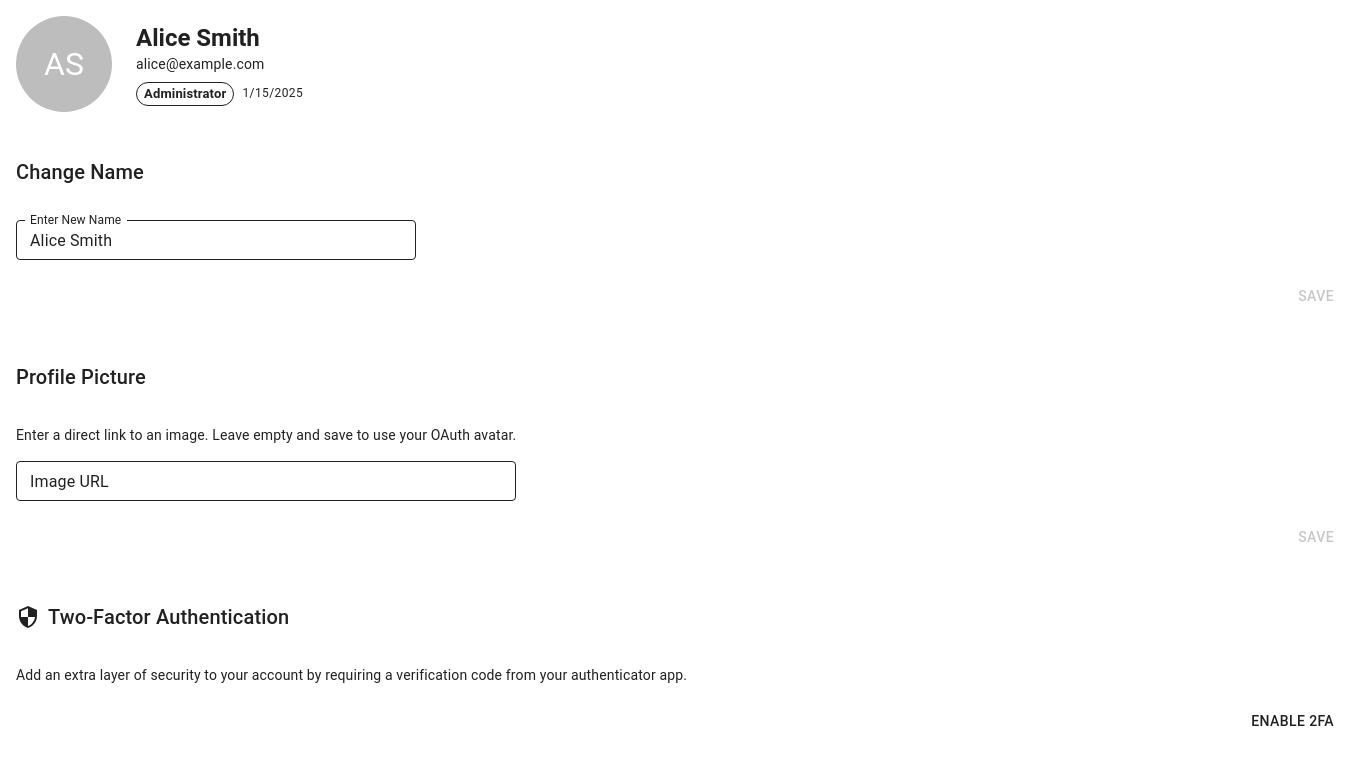
Test: ProfileEditor › save button enables when name is changed
Replace the text in the field labelled "Enter New Name" with "Alice Johnson" at {"x": 216, "y": 240}, box 16,220 -> 416,260
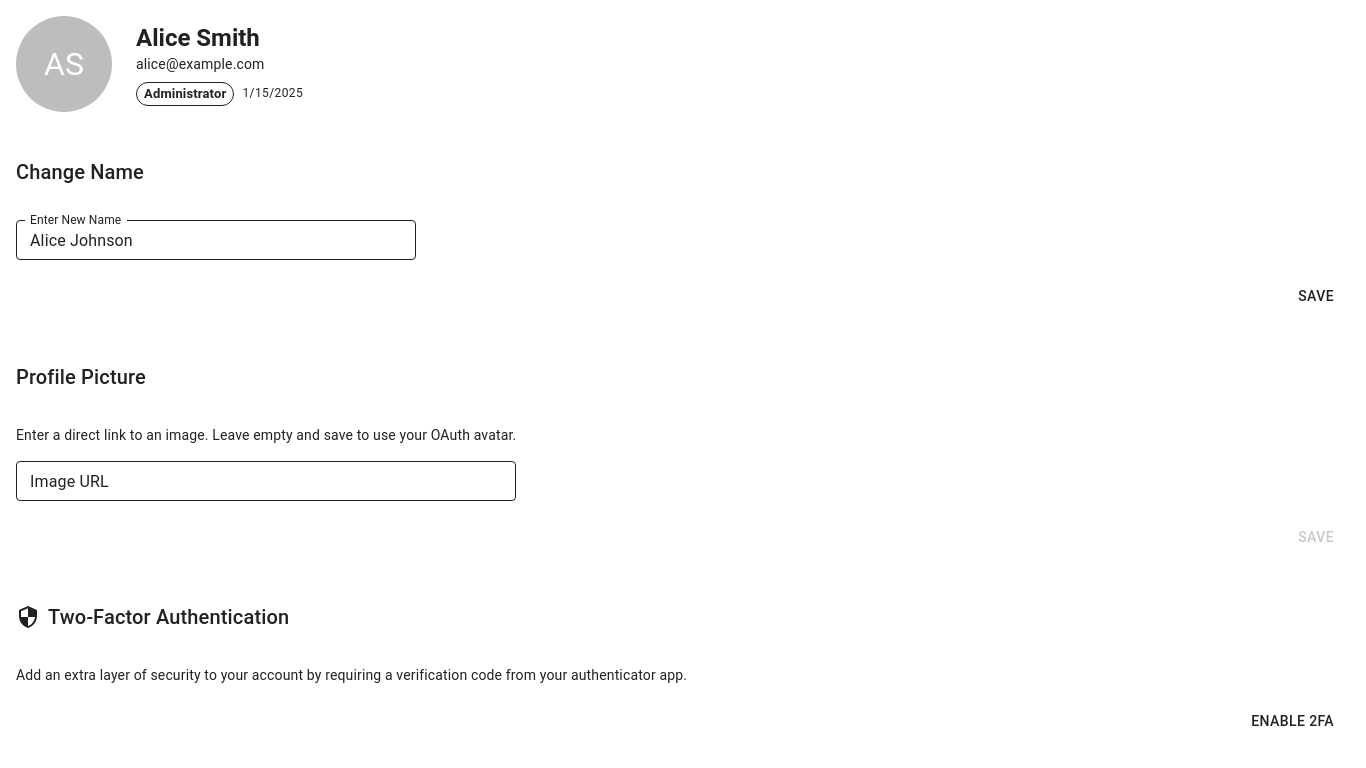
Expected: the 1st button "Save" is enabled, 1282,276 -> 1350,316
